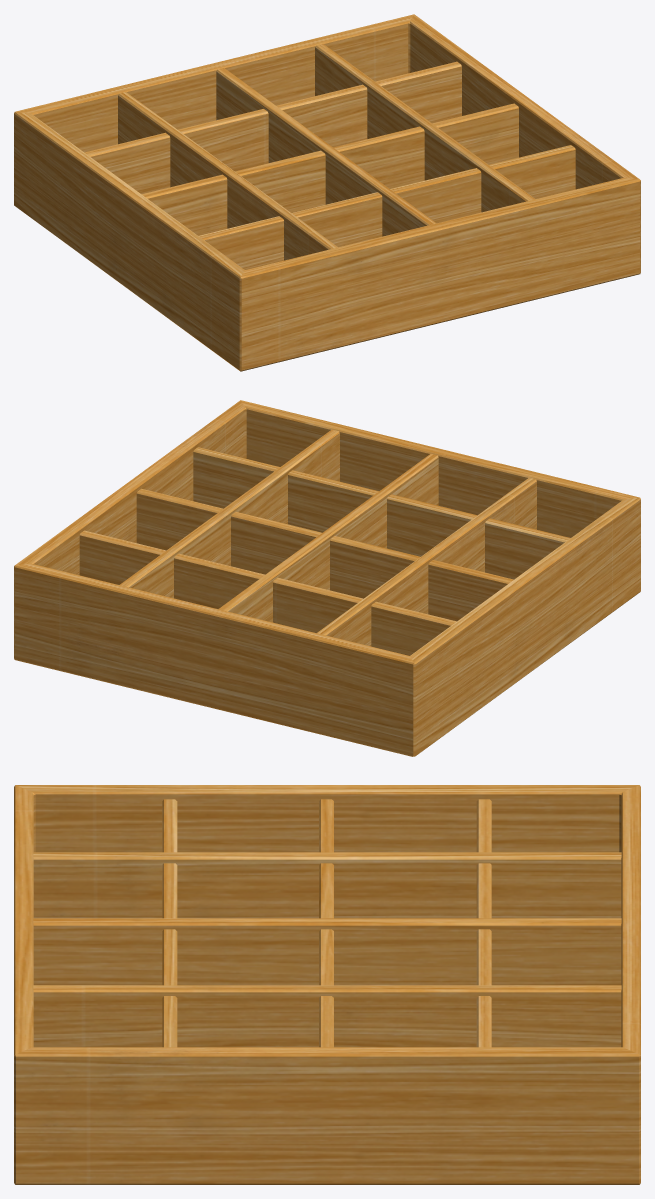
The model's file is cabinet002.FBX.
3 renders of one model, top to bottom at view 1: azimuth 30°, elevation 25°; view 2: azimuth 150°, elevation 25°; view 3: azimuth 270°, elevation 25°, orthographic. The views are drawn at different scales.
Parts seen in each view (by area): view 1: cabinet002; view 2: cabinet002; view 3: cabinet002.
Part boxes in pixels (x1,y1,x2,y2): cabinet002: [14, 14, 640, 371]; cabinet002: [14, 400, 640, 756]; cabinet002: [14, 785, 640, 1184].
Bounding box in the file's own units: 163 × 36.76 × 160.
1 material, 1 textured.
